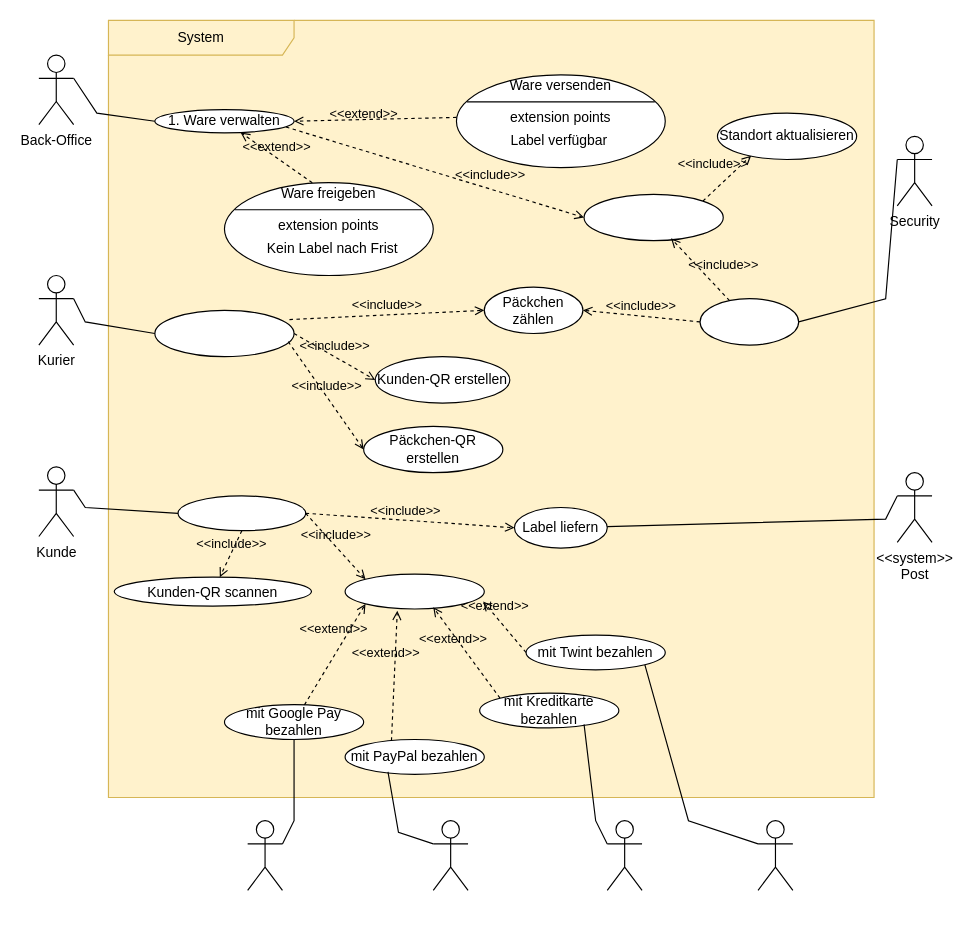
Image size: 972x952. Some labels were removed from this diagram. The shapes that lost their labels are listed below. From the top down, each one's centre as x and y in pixels, then its label:
At pixel 653 217: "Päckchen-QR scannen".
At pixel 224 333: "2. QR-Codes erstellen".
At pixel 749 321: "4. Päckchen wiegen".
At pixel 241 513: "3. Formular ausfüllen".
At pixel 414 591: "Bezahlen".
At pixel 264 855: "<<system>> Google Pay".
At pixel 450 855: "<<system>> PayPal".
At pixel 624 855: "<<system>> Visa-Mastercard".
At pixel 775 855: "<<system>> Twint".
